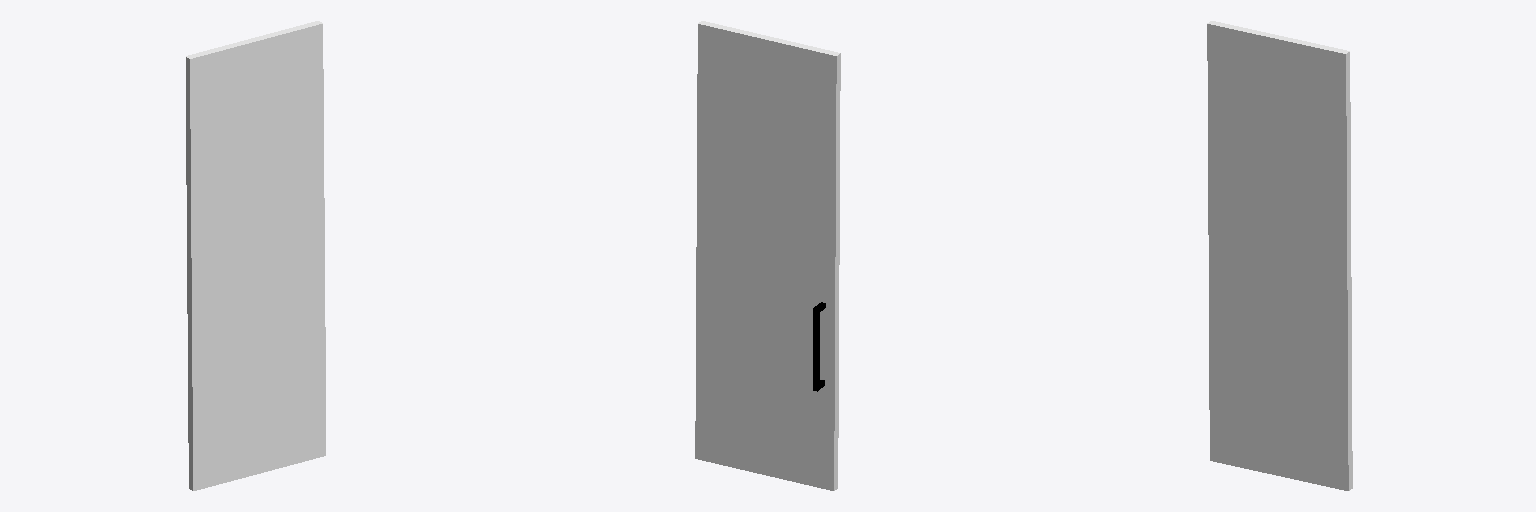
The robot description file, URDF, robot "shelf":
<?xml version="1.0" ?>
<!-- =================================================================================== -->
<!-- |    This document was autogenerated by xacro from shelf.urdf.xacro               | -->
<!-- |    EDITING THIS FILE BY HAND IS NOT RECOMMENDED                                 | -->
<!-- =================================================================================== -->
<robot name="shelf">
  <link name="world"/>
  <joint name="fixed" type="fixed">
    <parent link="world"/>
    <child link="shelf"/>
    <origin rpy="-0.007 0.002 1.5999" xyz="-0.318 -0.510 0.904"/>
  </joint>
  <link name="shelf"/>
  <link name="door">
    <inertial>
      <origin rpy="0 0 0" xyz="0 0 0"/>
      <mass value="5.8"/>
      <inertia ixx="0.4333886585" ixy="0" ixz="0" iyy="0.39146708384" iyz="0" izz="0.4333886585"/>
    </inertial>
    <visual>
      <origin rpy="0 0 0" xyz="0 0.1475 0"/>
      <geometry>
        <box size="0.016 0.295 0.9"/>
      </geometry>
      <material name="door_material">
        <color rgba="1.0 1.0 1.0 1"/>
      </material>
    </visual>
    <collision>
      <origin rpy="0 0 0" xyz="0 0.1475 0"/>
      <geometry>
        <box size="0.016 0.295 0.9"/>
      </geometry>
    </collision>
  </link>
  <link name="door_hinge"/>
  <joint name="door_hinge_joint" type="fixed">
    <parent link="shelf"/>
    <child link="door_hinge"/>
    <dynamics damping="2.0" friction="4.0"/>
    <origin xyz="0 -0.295 0.45"/>
  </joint>
  <joint name="articulation_joint" type="revolute">
    <parent link="door_hinge"/>
    <child link="measured_joint_link"/>
    <dynamics damping="2.0" friction="4.0"/>
    <origin xyz=" -0.004 0.023 -0.150"/>
    <axis xyz="0 0 -1"/>
    <limit effort="100" lower="0" upper="1.57" velocity="10.0"/>
  </joint>
  <joint name="door_link" type="fixed">
    <parent link="measured_joint_link"/>
    <child link="door"/>
    <origin xyz="0.004 -0.023 0.150"/>
  </joint>
  <link name="handle_link">
    <inertial>
      <origin rpy="0 0 0" xyz="0 0 0"/>
      <mass value="0.1"/>
      <inertia ixx="0.001" ixy="0" ixz="0" iyy="0.001" iyz="0" izz="0.001"/>
    </inertial>
    <visual>
      <origin rpy="0 0 0" xyz="0 0 0"/>
      <geometry>
        <box size="0.01 0.01 0.17"/>
      </geometry>
      <material name="handle_material">
        <color rgba="0.0 0.0 0.0 1"/>
      </material>
    </visual>
    <collision>
      <origin rpy="0 0 0" xyz="0 0 0"/>
      <geometry>
        <box size="0.01 0.01 0.17"/>
      </geometry>
    </collision>
  </link>
  <link name="handle_support_left">
    <inertial>
      <origin rpy="0 0 0" xyz="0 0 0"/>
      <mass value="0.1"/>
      <inertia ixx="0.001" ixy="0" ixz="0" iyy="0.001" iyz="0" izz="0.001"/>
    </inertial>
    <visual>
      <origin rpy="0 0 0" xyz="0 0 0"/>
      <geometry>
        <box size="0.026 0.01 0.01"/>
      </geometry>
      <material name="handle_material">
        <color rgba="0.0 0.0 0.0 1"/>
      </material>
    </visual>
    <collision>
      <origin rpy="0 0 0" xyz="0 0 0"/>
      <geometry>
        <box size="0.026 0.01 0.01"/>
      </geometry>
    </collision>
  </link>
  <link name="handle_support_right">
    <inertial>
      <origin rpy="0 0 0" xyz="0 0 0"/>
      <mass value="0.1"/>
      <inertia ixx="0.001" ixy="0" ixz="0" iyy="0.001" iyz="0" izz="0.001"/>
    </inertial>
    <visual>
      <origin rpy="0 0 0" xyz="0 0 0"/>
      <geometry>
        <box size="0.026 0.01 0.01"/>
      </geometry>
      <material name="handle_material">
        <color rgba="0.0 0.0 0.0 1"/>
      </material>
    </visual>
    <collision>
      <origin rpy="0 0 0" xyz="0 0 0"/>
      <geometry>
        <box size="0.026 0.01 0.01"/>
      </geometry>
    </collision>
  </link>
  <joint name="handle_joint" type="fixed">
    <parent link="door"/>
    <child link="handle_link"/>
    <origin rpy="0 0 0" xyz="0.034 0.27 -0.15"/>
    <!-- height handle + half the width door, 0.30 minus some offset -->
  </joint>
  <joint name="handle_support_left_joint" type="fixed">
    <parent link="handle_link"/>
    <child link="handle_support_left"/>
    <origin rpy="0 0 0" xyz="-0.013 0 0.08"/>
  </joint>
  <joint name="handle_support_right_joint" type="fixed">
    <parent link="handle_link"/>
    <child link="handle_support_right"/>
    <origin rpy="0 0 0" xyz="-0.013 0 -0.08"/>
  </joint>
  <link name="measured_joint_link"/>
  <!--     <joint name="measured_joint_handle_joint" type="fixed">
        <parent link="handle_link"/>
        <child link="measured_joint_link"/>
        <origin xyz="-0.038456463645002395 -0.24676779774627114 0.0" rpy="0 0 0"/>
    </joint> -->
</robot>

--- Facts derived from the render (not from the file) ---
3 views of the same robot in one strip: view 1: azimuth 30°, elevation 25°; view 2: azimuth 150°, elevation 25°; view 3: azimuth 330°, elevation 25° (orthographic).
Model shelf with 8 links and 7 joints (1 revolute, 6 fixed), rooted at world, posed every joint at zero.
Links seen in each view (by area): view 1: door; view 2: door, handle_link; view 3: door.
Link boxes in pixels (left/top/right/bottom): door: left=186, top=21, right=325, bottom=490; door: left=695, top=21, right=840, bottom=490; handle_link: left=813, top=306, right=819, bottom=391; door: left=1207, top=21, right=1352, bottom=490.
Bounding box of the posed robot: 0.3017 × 0.0485 × 0.9021 m (x, y, z).
Geometry: primitives only (box / cylinder / sphere), no mesh files.